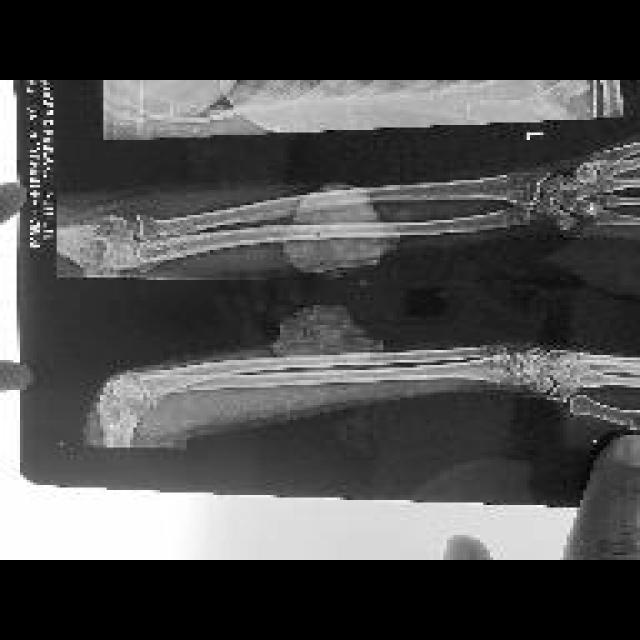bone-cancer: (280, 182, 402, 278), (272, 305, 383, 372)
